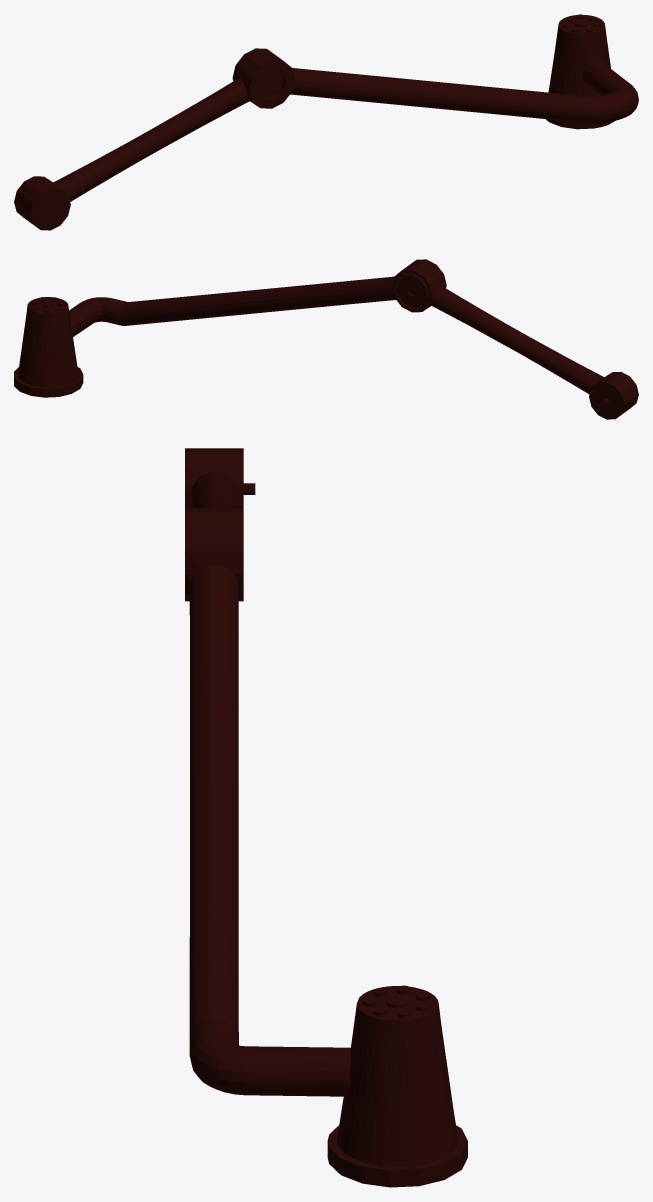
File: Mars6Mars_Rover__Curiosity_1_0__-_28_Wheel_connector_1-2.001.dae
3 views of the same model, one above another, from view 1: azimuth 30°, elevation 25°; view 2: azimuth 150°, elevation 25°; view 3: azimuth 270°, elevation 25° (orthographic). The views are drawn at different scales.
Visible parts, largest first — view 1: tmp_export_Mars6Mars_Rover__Curiosity_1_0__-_28_Wheel_connec; view 2: tmp_export_Mars6Mars_Rover__Curiosity_1_0__-_28_Wheel_connec; view 3: tmp_export_Mars6Mars_Rover__Curiosity_1_0__-_28_Wheel_connec.
Boxes of the visible parts, x1,y1,x2,y2 form: tmp_export_Mars6Mars_Rover__Curiosity_1_0__-_28_Wheel_connec: [14, 14, 638, 230]; tmp_export_Mars6Mars_Rover__Curiosity_1_0__-_28_Wheel_connec: [14, 259, 638, 419]; tmp_export_Mars6Mars_Rover__Curiosity_1_0__-_28_Wheel_connec: [185, 448, 467, 1187].
Size of the model in its own units: 0.3936 by 0.0849 by 0.1088.
